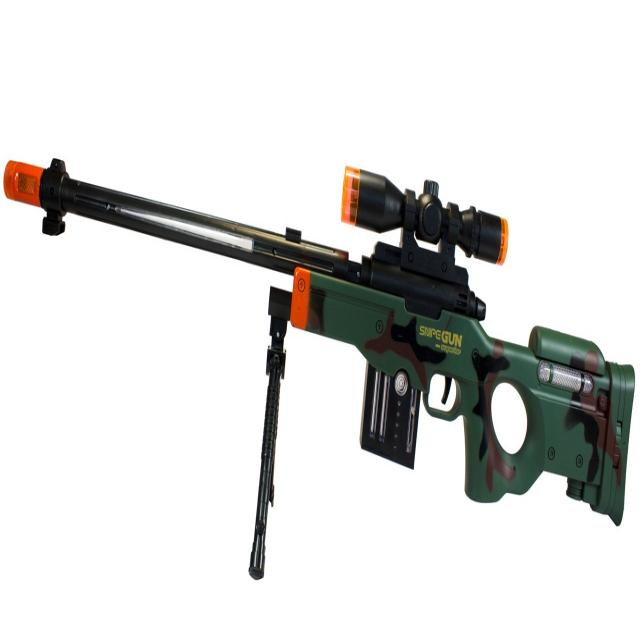Rifle: (2, 159, 636, 528)
